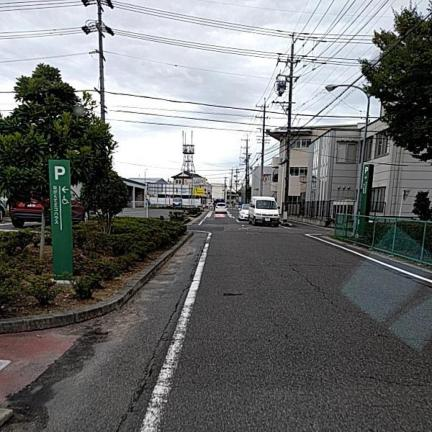Road: (6, 210, 431, 431)
